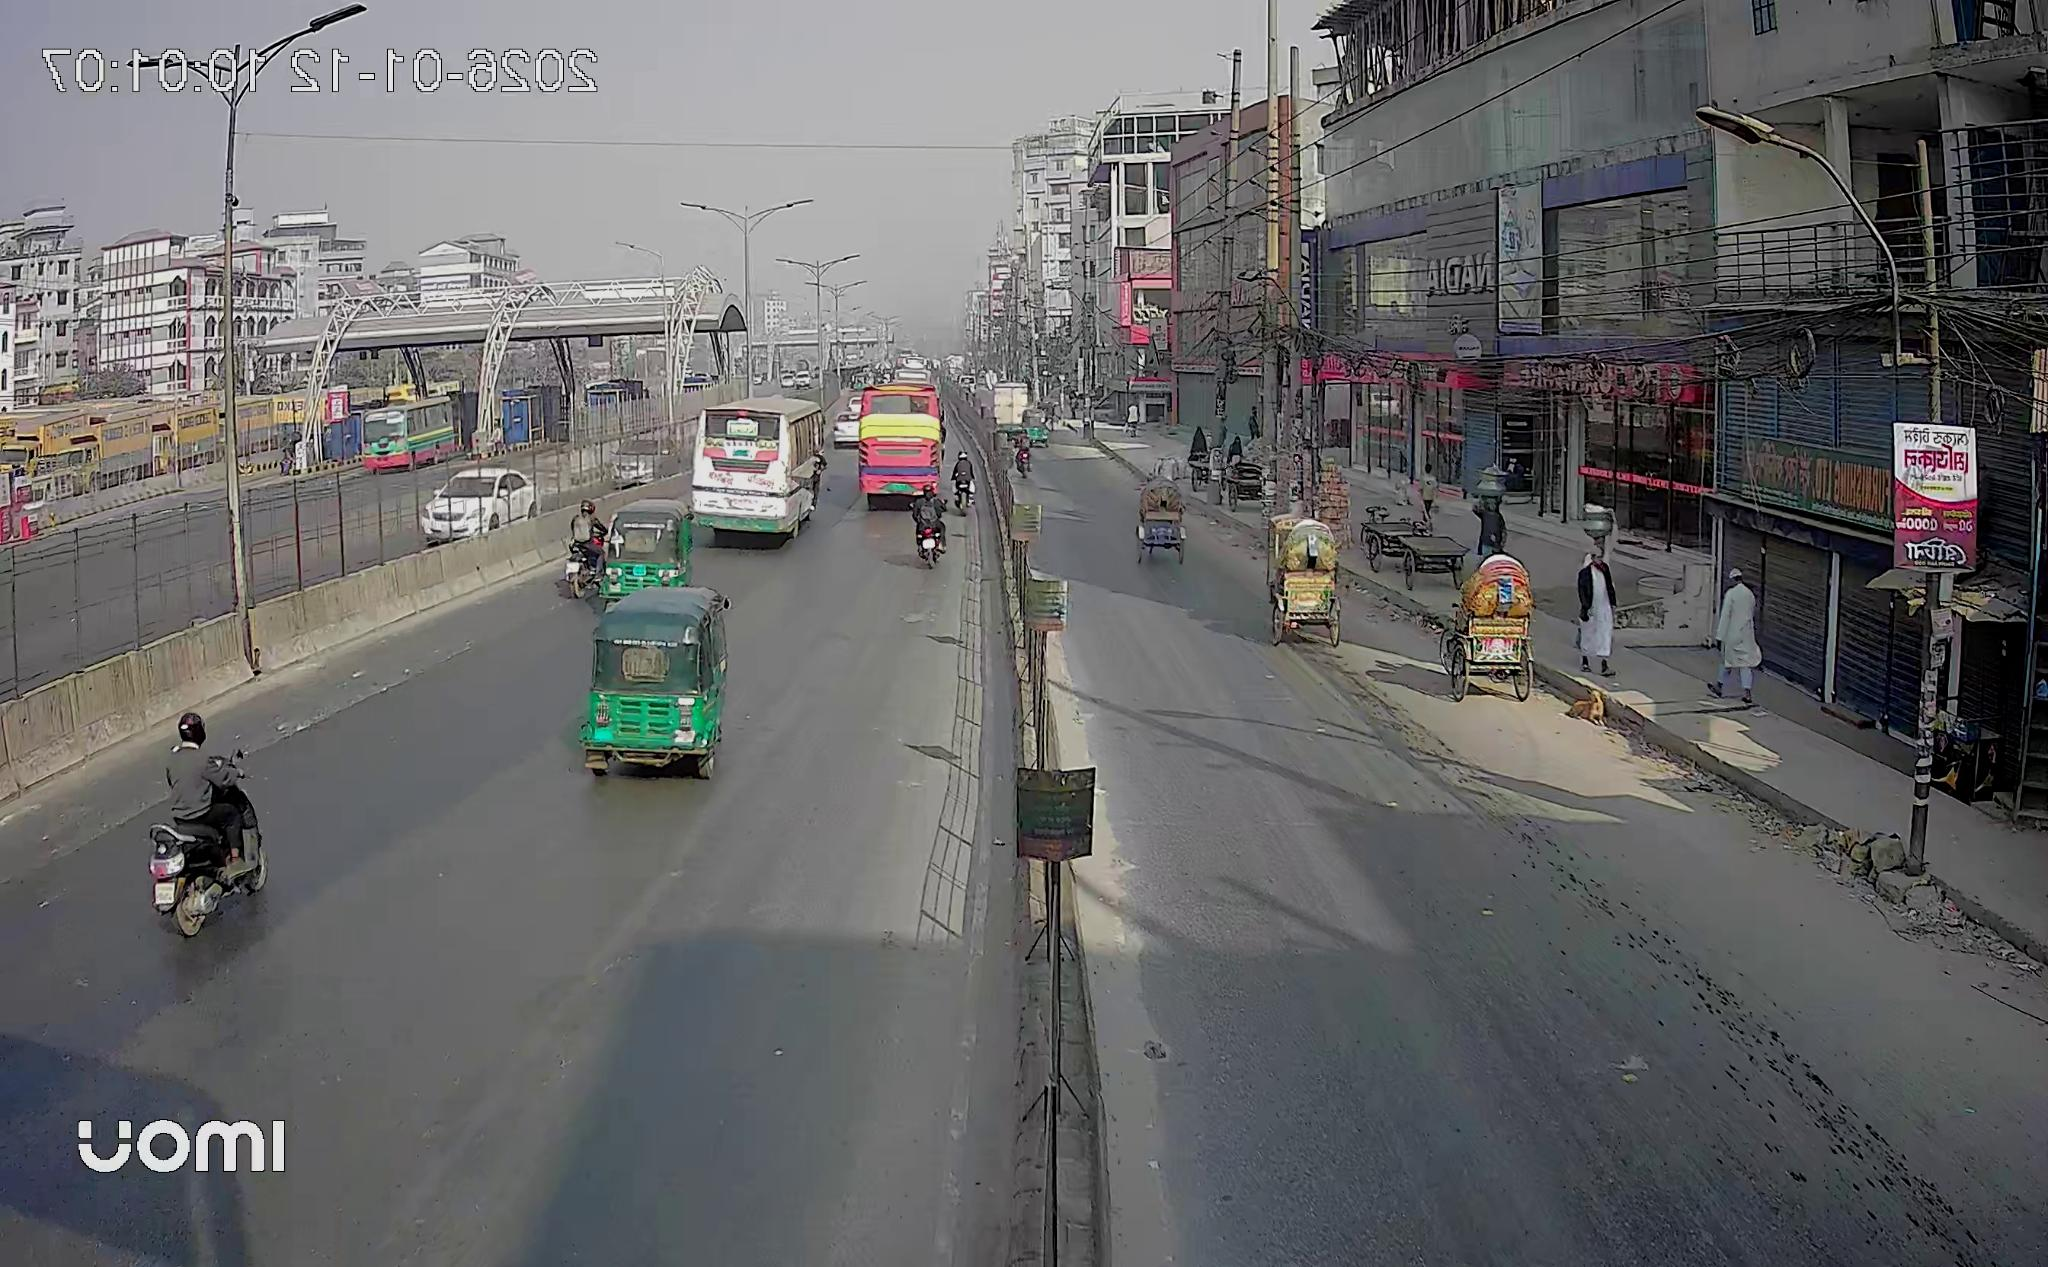Bus: (690, 398, 825, 540), (856, 385, 944, 509)
CNG-Tempo: (581, 499, 730, 778)
Cycle Rickshaw: (1441, 556, 1535, 701), (1268, 516, 1341, 645), (1140, 481, 1186, 549)
Motorcycle: (151, 713, 265, 935), (568, 502, 609, 584), (911, 493, 946, 559)
Private-Sedan Car: (418, 467, 540, 544)
